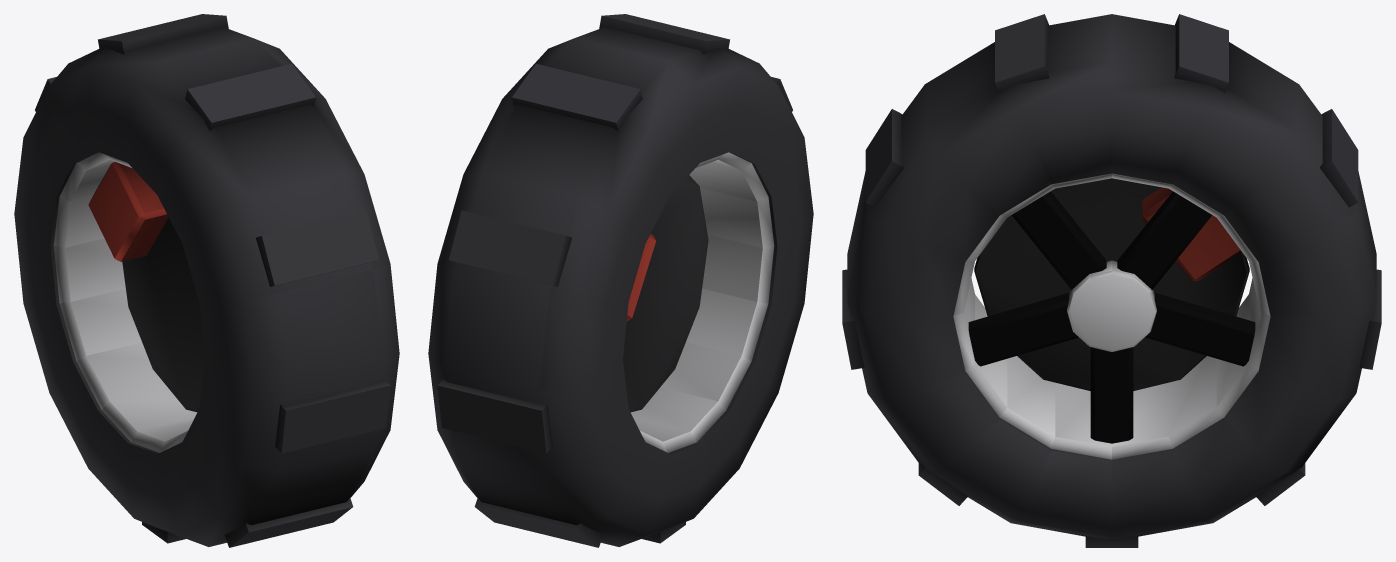
File: wheel_standard.glb
3 renders of one model, left to right at view 1: azimuth 30°, elevation 25°; view 2: azimuth 150°, elevation 25°; view 3: azimuth 270°, elevation 25°, orthographic. The views are drawn at different scales.
Parts seen in each view (by area): view 1: tyre, rim_barrel, brake_disc, tread_06, tread_07, caliper, tread_05, tread_04, tread_08; view 2: tyre, rim_barrel, brake_disc, tread_03, tread_02, tread_04, tread_05, tread_01, caliper; view 3: tyre, rim_barrel, brake_disc, hub, spoke_1, spoke_4, spoke_2, spoke_3, spoke_0, tread_04, tread_05, caliper (+4 smaller).
Part boxes in pixels (x1,y1,x2,y2): tyre: [14, 27, 399, 546]; rim_barrel: [53, 152, 197, 452]; brake_disc: [122, 217, 204, 412]; tread_06: [256, 210, 378, 286]; tread_07: [275, 379, 390, 453]; caliper: [88, 162, 168, 261]; tread_05: [185, 63, 315, 130]; tread_04: [98, 14, 228, 54]; tread_08: [224, 498, 353, 547]; tyre: [428, 27, 813, 546]; rim_barrel: [630, 152, 774, 452]; brake_disc: [623, 175, 708, 412]; tread_03: [449, 210, 571, 286]; tread_02: [437, 379, 552, 453]; tread_04: [512, 63, 642, 130]; tread_05: [599, 14, 729, 54]; tread_01: [474, 498, 603, 547]; caliper: [626, 234, 655, 321]; tyre: [847, 14, 1376, 540]; rim_barrel: [953, 173, 1270, 459]; brake_disc: [974, 178, 1249, 390]; hub: [1067, 260, 1156, 351]; spoke_1: [1145, 292, 1255, 366]; spoke_4: [968, 292, 1078, 366]; spoke_2: [1117, 191, 1212, 289]; spoke_3: [1011, 191, 1106, 289]; spoke_0: [1090, 347, 1133, 443]; tread_04: [1174, 14, 1228, 92]; tread_05: [995, 14, 1049, 92]; caliper: [1142, 187, 1241, 281].
Size of the model in its own units: 0.22 by 0.6254 by 0.632.
